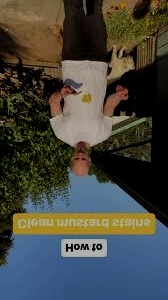mustard: (80, 94, 93, 105)
